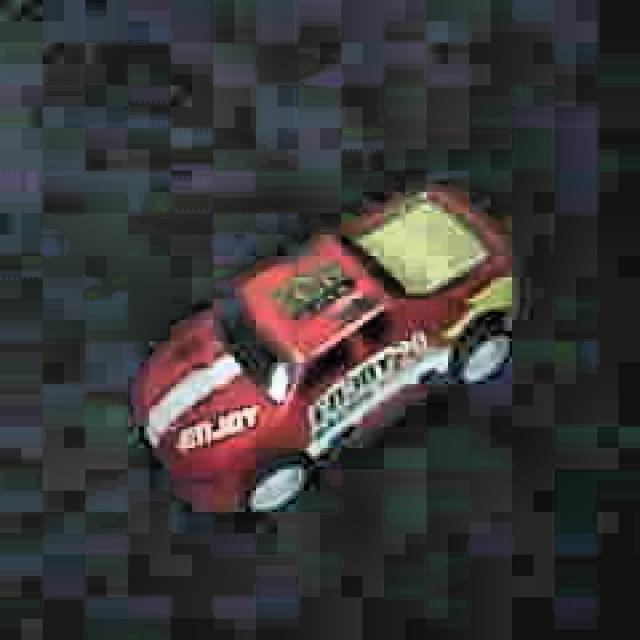car: (125, 175, 523, 522)
